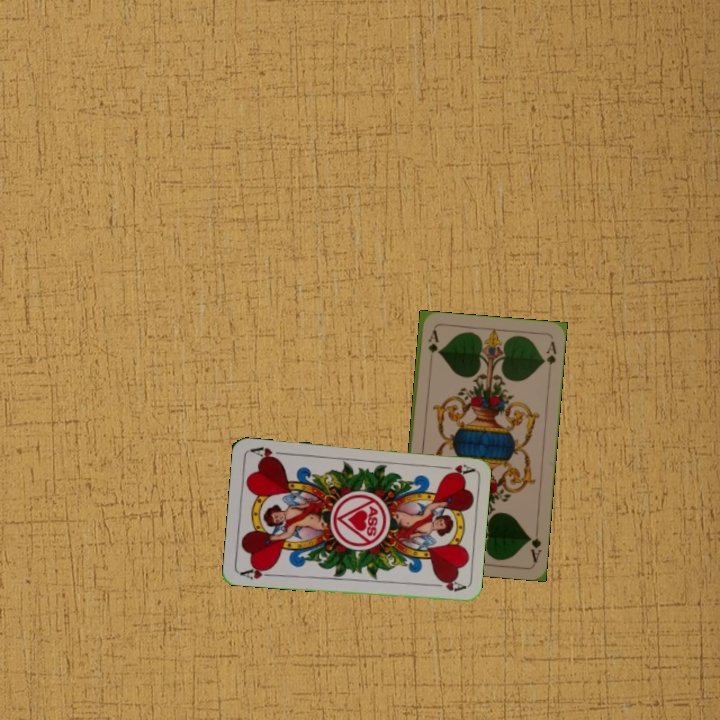GA: (424, 326, 440, 366), (525, 532, 544, 564)
HA: (237, 562, 277, 582), (435, 460, 475, 478)
